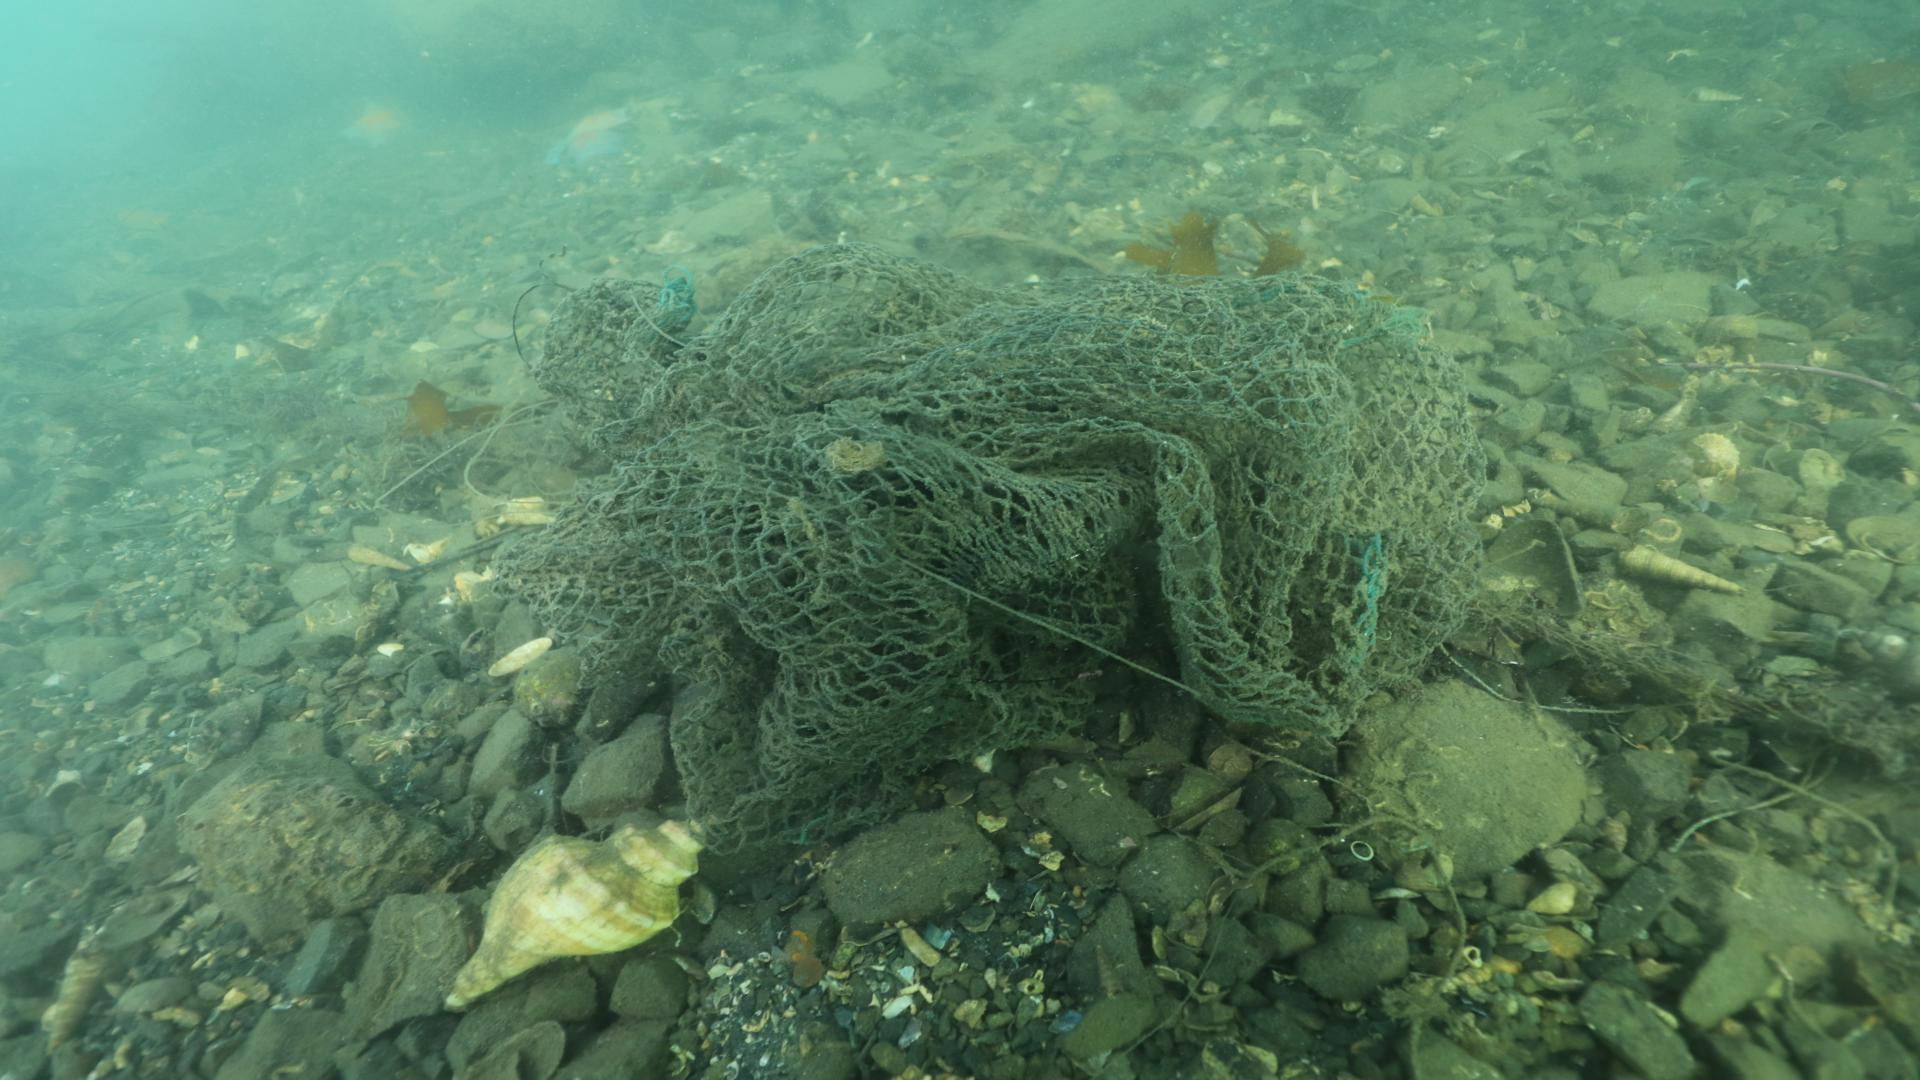fish net: (491, 237, 1491, 853)
